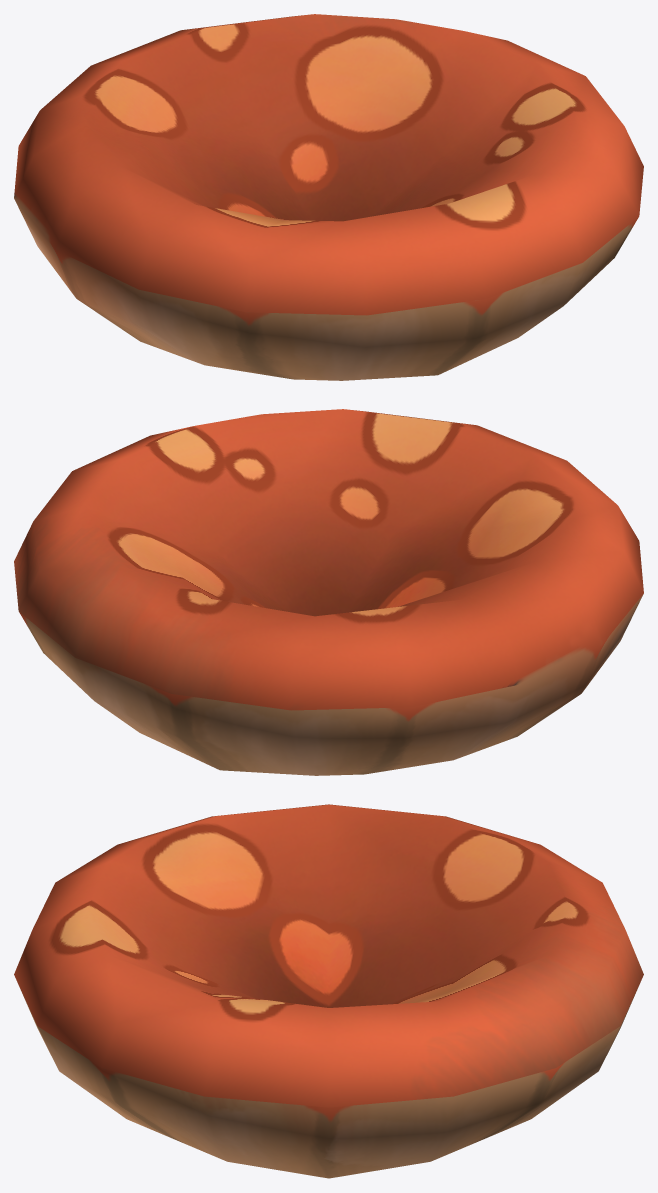
Rendered from MushroomTree.fbx.
The picture shows the model from 3 angles, top to bottom: view 1: azimuth 30°, elevation 25°; view 2: azimuth 150°, elevation 25°; view 3: azimuth 270°, elevation 25°; orthographic projection.
Visible parts, largest first — view 1: pCube1; view 2: pCube1; view 3: pCube1.
Boxes of the visible parts, x1=… form: pCube1: x1=14, y1=14, x2=643, y2=380; pCube1: x1=14, y1=409, x2=643, y2=775; pCube1: x1=14, y1=804, x2=643, y2=1178.
Bounding box in the file's own units: 47.12 × 19.09 × 47.12.
